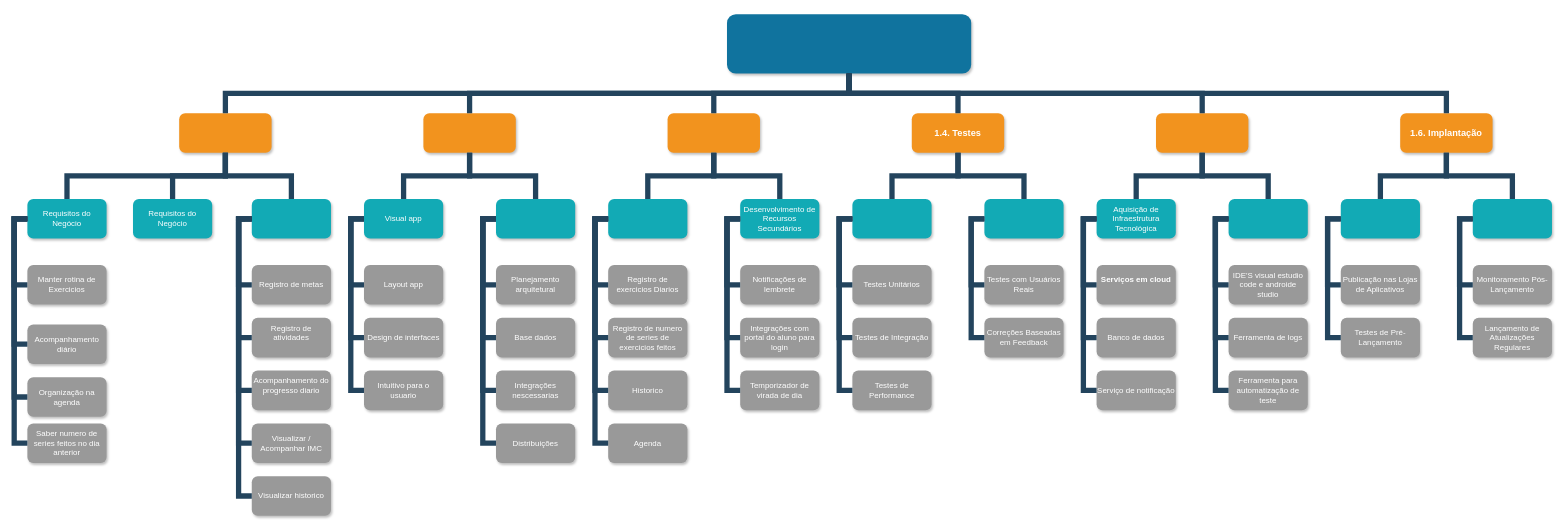
The diagram is 1567 pixels wide and 531 high, and some of its shapes have lost their labels. Each missing label, with the centre of its shape:
"1.1. Análise" belongs at [225,133].
"1.2. Desenho" belongs at [469,133].
"1.3. Desenvolvimento" belongs at [714,133].
"1.5. Aquisições" belongs at [1202,133].
"Aquisição de Ferramentas de Desenvolvimento e Monitoramento" belongs at [1268,219].
"Arquitetura do Sistema" belongs at [536,219].
"Codificação das Funcionalidades Principais" belongs at [648,219].
"Desenvolvimento de Sistema da Disciplina de GPS" belongs at [849,44].
"Lançamento do Aplicativo" belongs at [1381,219].
"Requisitos Funcionais" belongs at [292,219].
"Suporte e Atualizações" belongs at [1513,219].
"Testes de Funcionalidade" belongs at [892,219].
"Testes de Usabilidade" belongs at [1024,219].
